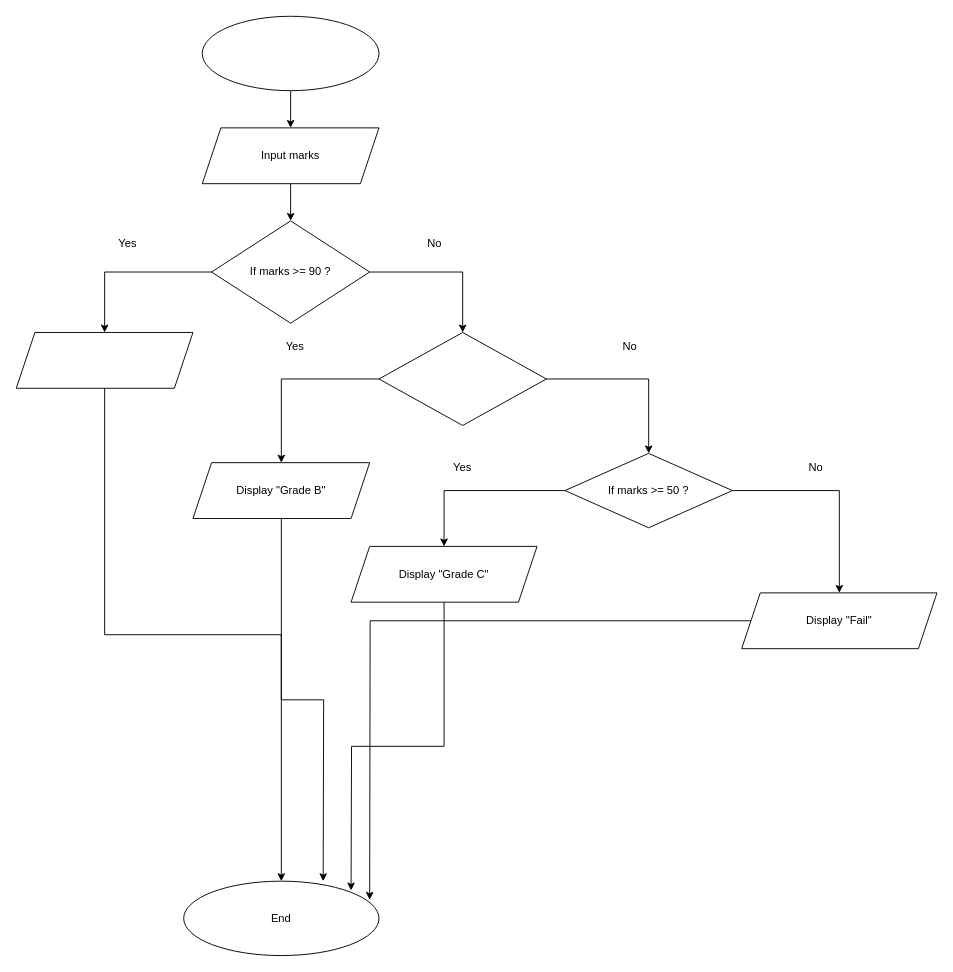
Some shapes in this 953 by 972 pixel diagram are drawn without their labels. Each missing label, with the box of its shape:
Display "Grade A": (15, 332, 193, 388)
If marks >= 75 ?: (378, 332, 546, 425)
start: (201, 15, 379, 91)
